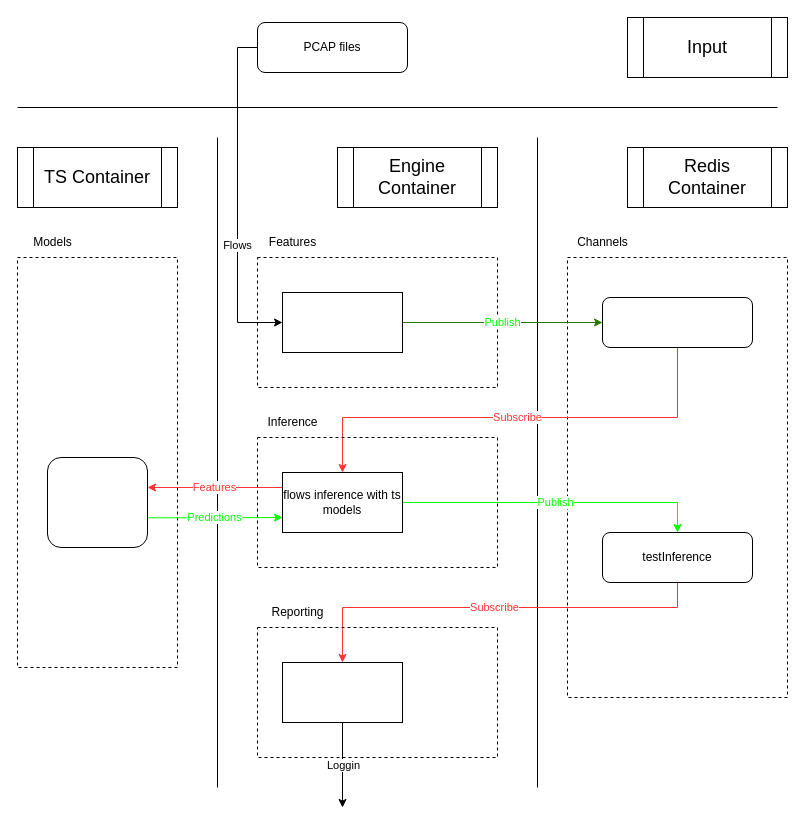
Image size: 805x833. Some labels were removed from this diagram. Each missing label, with the centre of its shape:
CNN 1d Binary Cls: (x=97, y=502)
NFlows features extractor: (x=342, y=322)
testFeature: (x=677, y=322)
Text logs reporter: (x=342, y=692)
